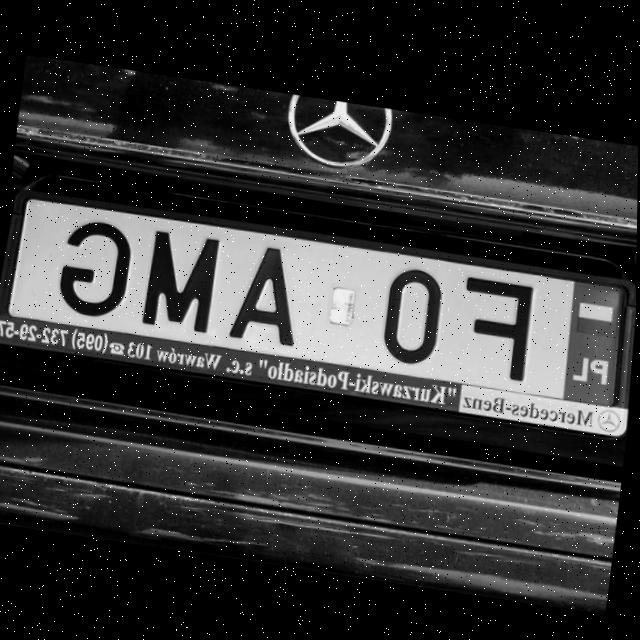license-plates: (7, 199, 625, 407)
